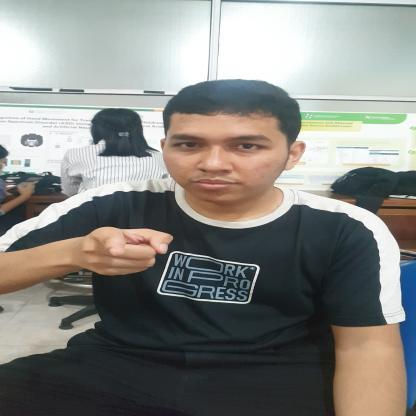Kamu: (5, 197, 188, 303)
